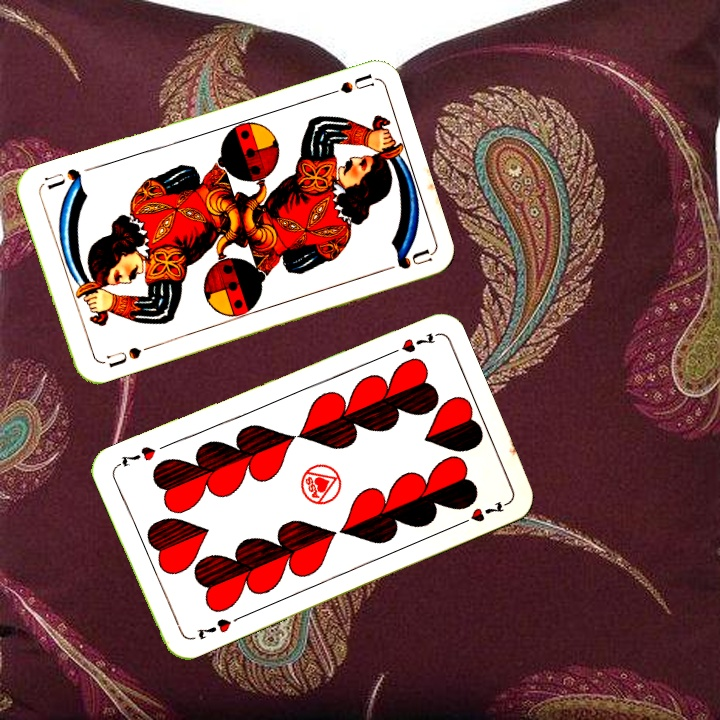H7: (382, 329, 439, 359), (192, 614, 234, 643)
SU: (316, 70, 375, 101), (97, 341, 155, 370)
